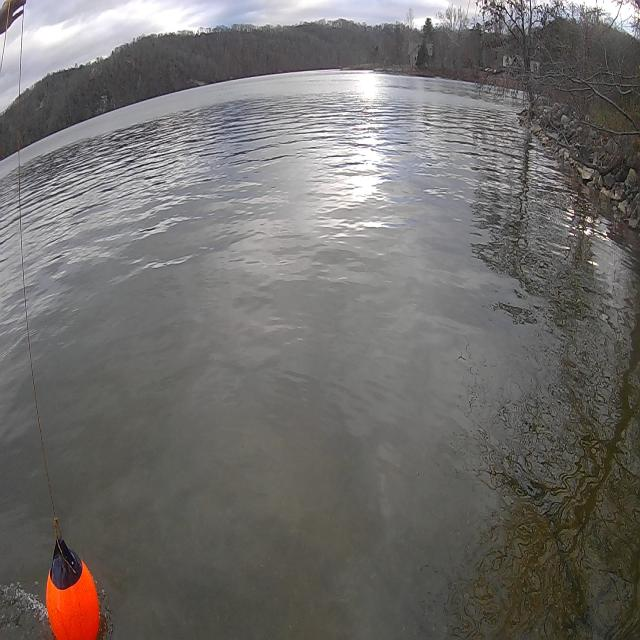Buoy: (44, 557, 103, 640)
